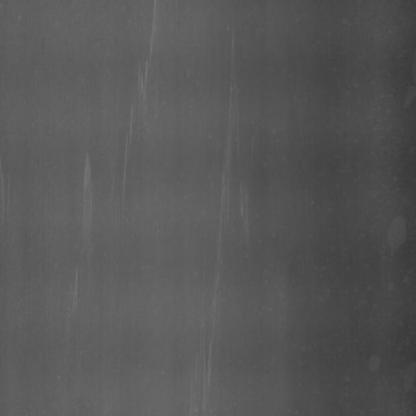silk_spot: (115, 1, 168, 185), (213, 34, 256, 237), (193, 263, 238, 395), (71, 161, 101, 232)
